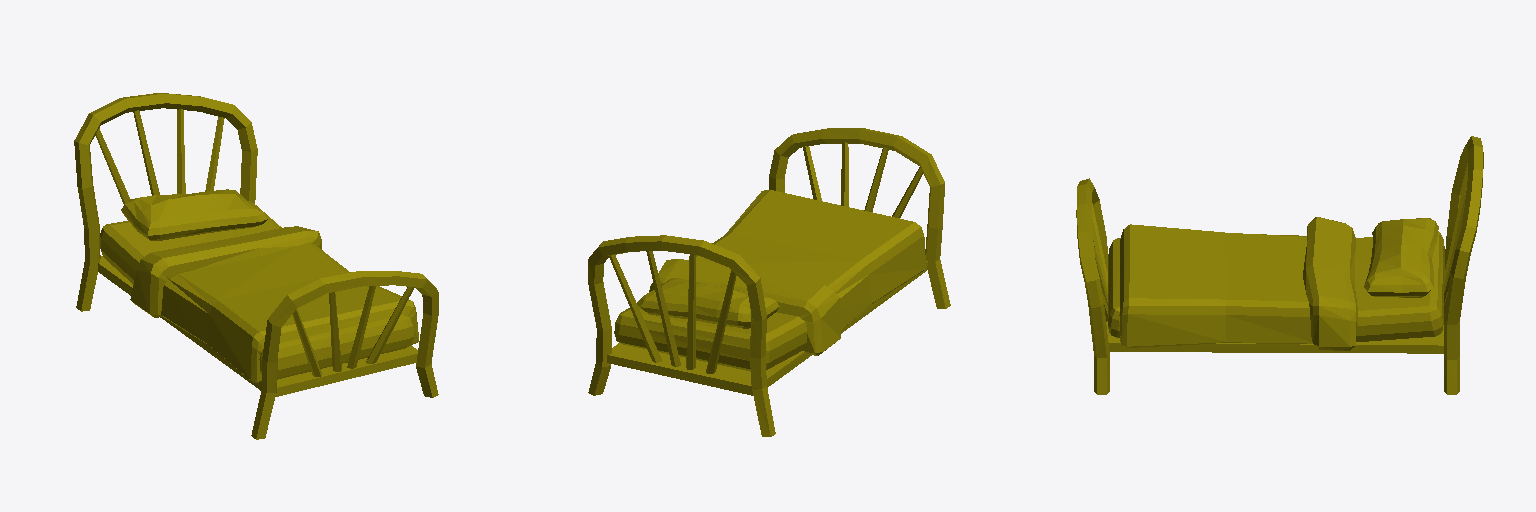
File: Bed.obj
3 views of the same model, side by side, from view 1: azimuth 30°, elevation 25°; view 2: azimuth 150°, elevation 25°; view 3: azimuth 270°, elevation 25° (orthographic).
Visible parts, largest first — view 1: Bed; view 2: Bed; view 3: Bed.
Part boxes in pixels (left/top/right/bottom): Bed: left=74, top=93, right=438, bottom=439; Bed: left=588, top=128, right=950, bottom=436; Bed: left=1076, top=136, right=1483, bottom=394.
Size of the model in its own units: 150 by 148 by 289.